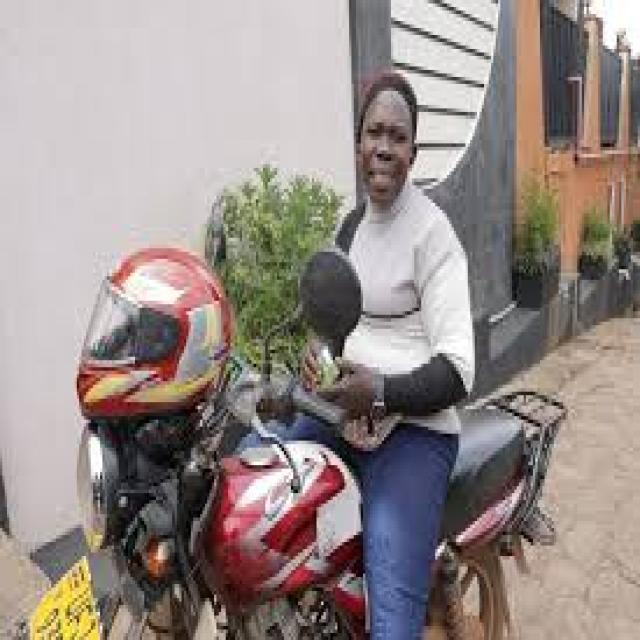bodaboda: (4, 175, 574, 640)
